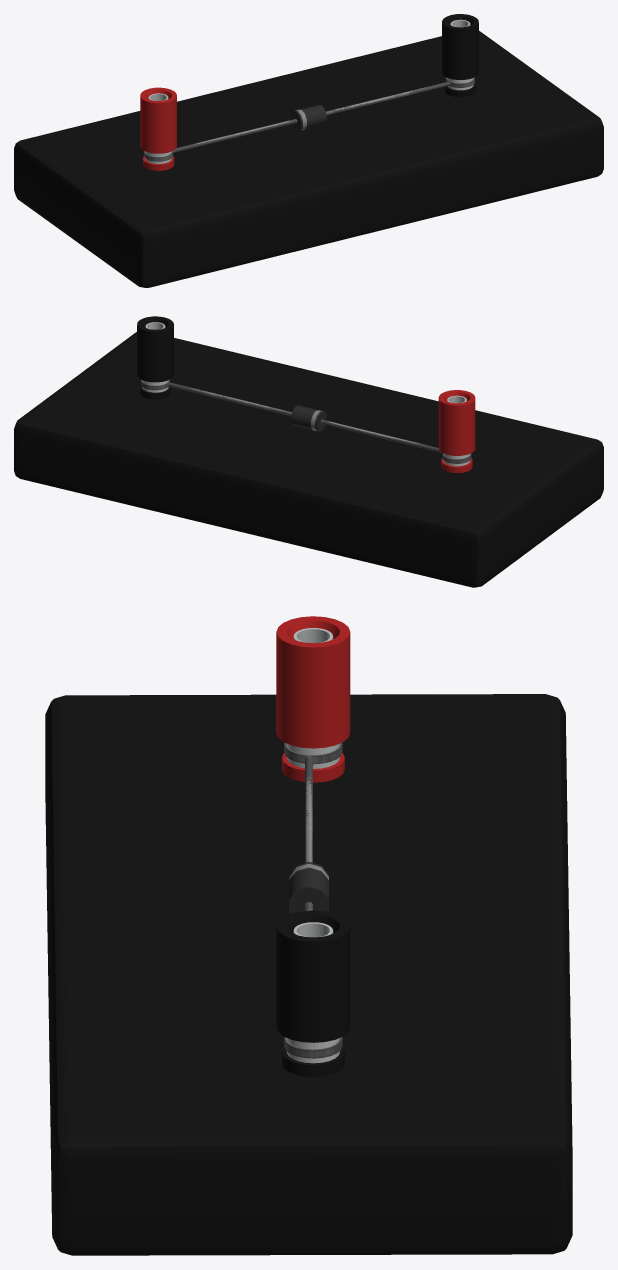
The model's file is diod.fbx.
The picture shows the model from 3 angles, top to bottom: view 1: azimuth 30°, elevation 25°; view 2: azimuth 150°, elevation 25°; view 3: azimuth 270°, elevation 25°; orthographic projection. The views are drawn at different scales.
Parts seen in each view (by area): view 1: diod_geo; view 2: diod_geo; view 3: diod_geo.
Part boxes in pixels (bbox=[...]): diod_geo: bbox=[14, 14, 603, 287]; diod_geo: bbox=[14, 316, 603, 587]; diod_geo: bbox=[45, 616, 572, 1255].
Bounding box in the file's own units: 8.03 × 2.1 × 3.91.
Materials: 1 (1 with a texture image).
